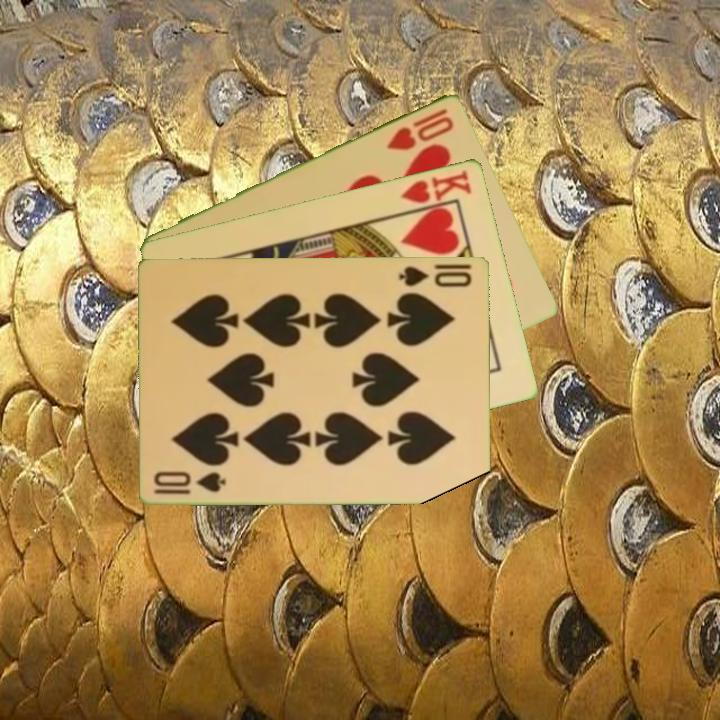10h: (383, 104, 457, 153)
10s: (150, 467, 229, 497), (396, 262, 475, 290)
Kh: (396, 166, 475, 215)
